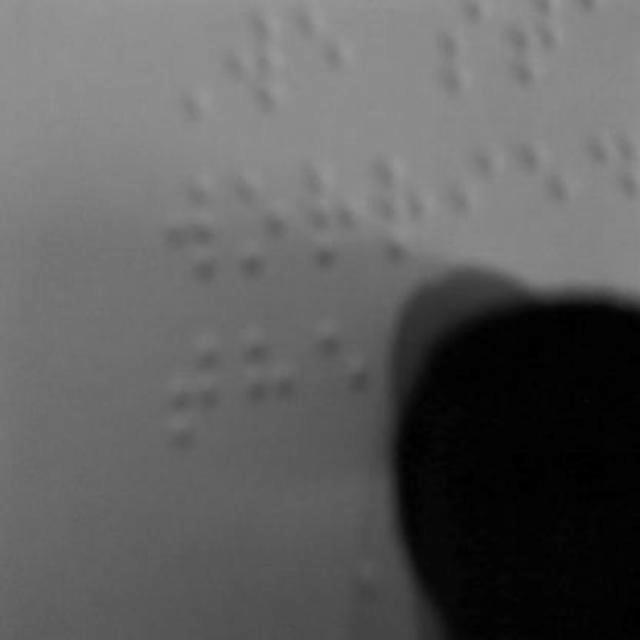braiile: (313, 312, 385, 452), (373, 147, 445, 280), (239, 321, 305, 465), (227, 158, 299, 286), (165, 332, 229, 476), (160, 164, 226, 300), (298, 149, 366, 281), (522, 124, 584, 262), (224, 2, 294, 120), (451, 132, 514, 260)
